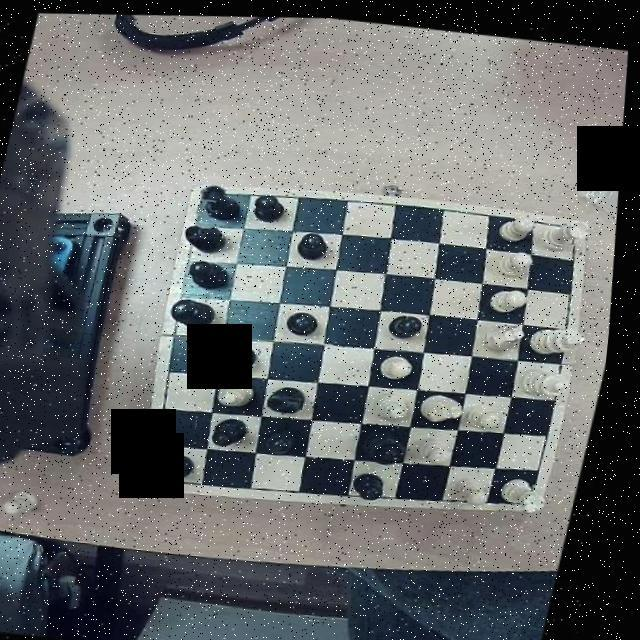chess-table-corners: (153, 450, 193, 488), (193, 180, 230, 214), (518, 474, 554, 507), (558, 210, 593, 238)
